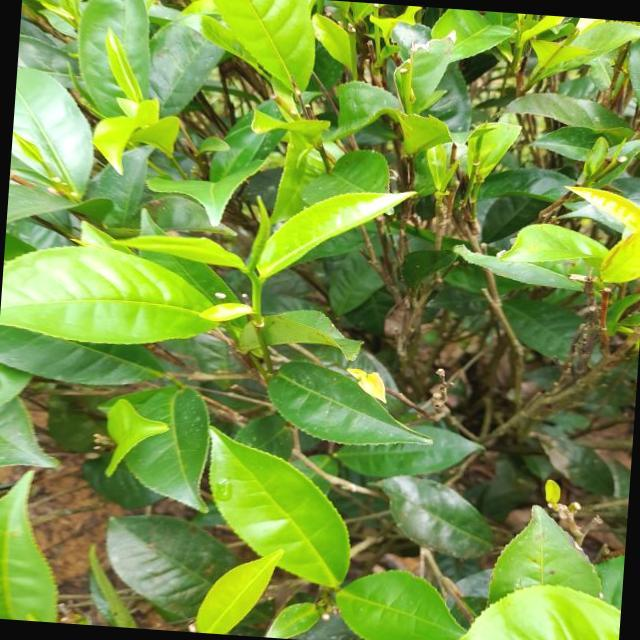Stem: (253, 281, 261, 289)
